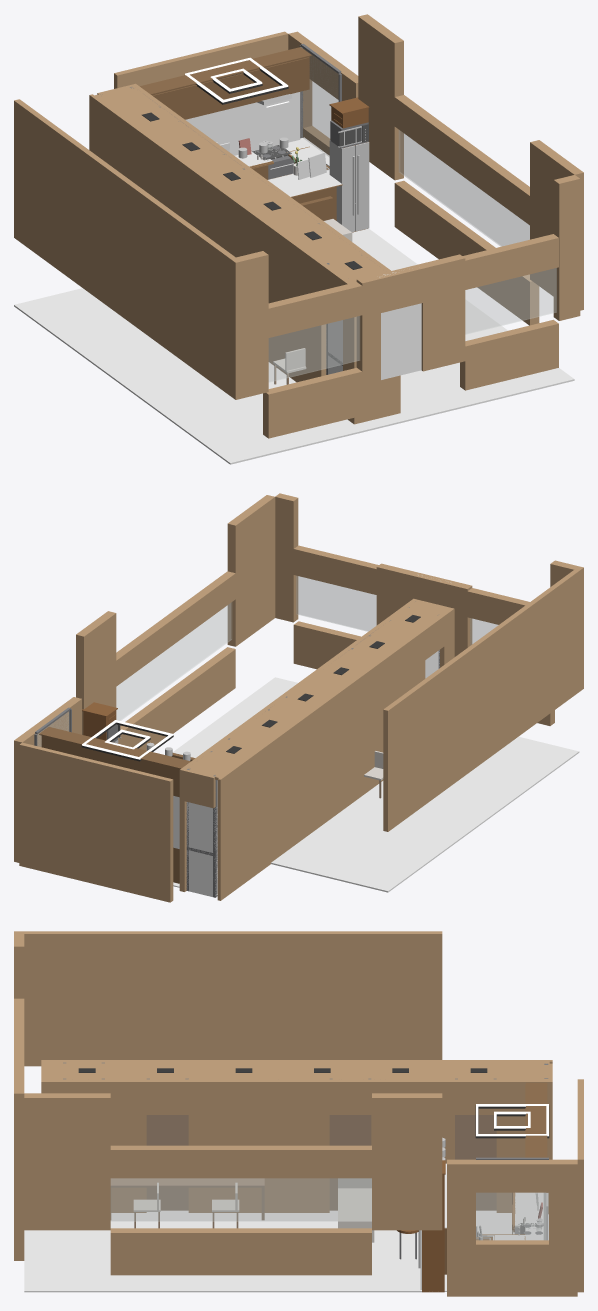
File: hallway-presentation.glb
The picture shows the model from 3 angles, top to bottom: view 1: azimuth 30°, elevation 25°; view 2: azimuth 150°, elevation 25°; view 3: azimuth 270°, elevation 25°; orthographic projection. The views are drawn at different scales.
Visible parts, largest first — view 1: ARC_Wall_W_r01, ARC_Floor_r01, ARC_Wall_W_Hall_r08_mid, ARC_Ceiling_r08_hall, ARC_Wall_E_r01_hi, ARC_Wall_E_r01_sil, ARC_Wall_S_r01_pier_l, ARC_Wall_E_r01_lin, ARC_Win_E_r01_glass, ARC_Wall_S_r01_silA, ARC_Wall_S_r01_silB, ARC_Win_B_r01_glass (+27 smaller); view 2: ARC_Wall_W_r01, ARC_Wall_W_Hall_r08_mid, ARC_Wall_N_Kitchen, ARC_Floor_r01, ARC_Ceiling_r08_hall, ARC_Wall_E_r01_lo, ARC_Wall_E_r01_sil, ARC_Win_E_r01_glass, ARC_Wall_E_r01_lin, ARC_Wall_E_r01_hi, ARC_Win_B_r01_glass, ARC_Wall_S_r01_pier_r (+20 smaller); view 3: ARC_Wall_W_r01, ARC_Floor_r01, ARC_Wall_E_Hall_r08_py02, ARC_Wall_E_r01_sil, ARC_Wall_E_r01_lo, ARC_Win_E_r01_glass, ARC_Wall_E_r01_hi, ARC_Wall_E_r01_lin, ARC_Ceiling_r08_hall, ARC_Wall_E_Hall_r08_slatwall, ARC_Wall_E_Sill, ARC_Wall_E_PierN (+21 smaller).
Part boxes in pixels (box(x1,y1,x2,y2)): ARC_Wall_W_r01: box(14, 99, 235, 395); ARC_Floor_r01: box(14, 228, 574, 464); ARC_Wall_W_Hall_r08_mid: box(92, 96, 326, 382); ARC_Ceiling_r08_hall: box(94, 85, 388, 282); ARC_Wall_E_r01_hi: box(358, 14, 403, 180); ARC_Wall_E_r01_sil: box(394, 180, 539, 325); ARC_Wall_S_r01_pier_l: box(230, 251, 268, 399); ARC_Wall_E_r01_lin: box(394, 95, 529, 225); ARC_Win_E_r01_glass: box(399, 130, 529, 246); ARC_Wall_S_r01_silA: box(263, 367, 362, 438); ARC_Wall_S_r01_silB: box(460, 319, 558, 390); ARC_Win_B_r01_glass: box(465, 268, 556, 334); ARC_Wall_W_r01: box(383, 570, 579, 831); ARC_Wall_W_Hall_r08_mid: box(219, 629, 425, 898); ARC_Wall_N_Kitchen: box(19, 742, 173, 902); ARC_Floor_r01: box(173, 677, 579, 892); ARC_Ceiling_r08_hall: box(185, 600, 450, 779); ARC_Wall_E_r01_lo: box(227, 495, 275, 646); ARC_Wall_E_r01_sil: box(118, 647, 235, 750); ARC_Win_E_r01_glass: box(116, 602, 231, 720); ARC_Wall_E_r01_lin: box(116, 571, 235, 686); ARC_Wall_E_r01_hi: box(76, 611, 116, 734); ARC_Win_B_r01_glass: box(296, 576, 376, 631); ARC_Wall_S_r01_pier_r: box(275, 493, 298, 622); ARC_Wall_W_r01: box(24, 931, 442, 1066); ARC_Floor_r01: box(24, 1210, 421, 1292); ARC_Wall_E_Hall_r08_py02: box(188, 1080, 329, 1212); ARC_Wall_E_r01_sil: box(110, 1228, 371, 1275); ARC_Wall_E_r01_lo: box(24, 1093, 110, 1230); ARC_Win_E_r01_glass: box(111, 1178, 371, 1221); ARC_Wall_E_r01_hi: box(372, 1093, 442, 1230); ARC_Wall_E_r01_lin: box(110, 1145, 371, 1178); ARC_Ceiling_r08_hall: box(44, 1061, 549, 1079); ARC_Wall_E_Hall_r08_slatwall: box(146, 1115, 496, 1210); ARC_Wall_E_Sill: box(476, 1240, 548, 1296); ARC_Wall_E_PierN: box(549, 1159, 577, 1296).
Size of the model in its own units: 7.55 by 4.2 by 10.91.
